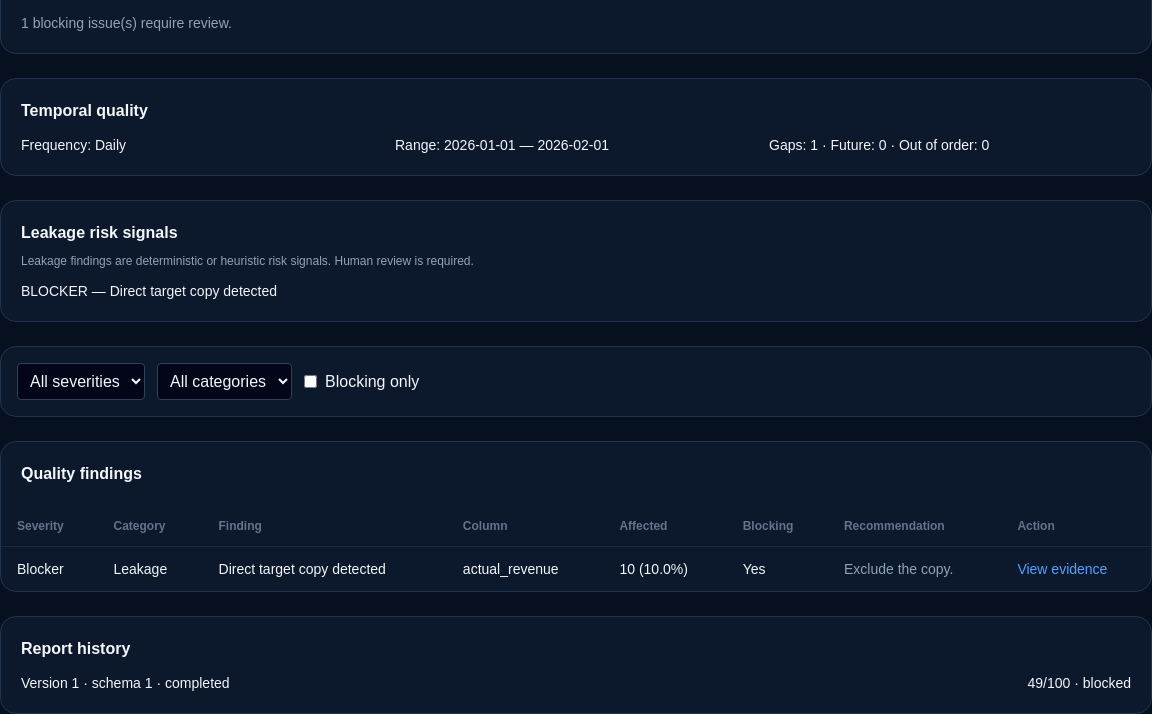
Test case: Data quality workspace › opens bounded evidence safely
(page scrolled)
Click the button "View evidence". click: (1062, 569)
box: [1017,559,1107,579]
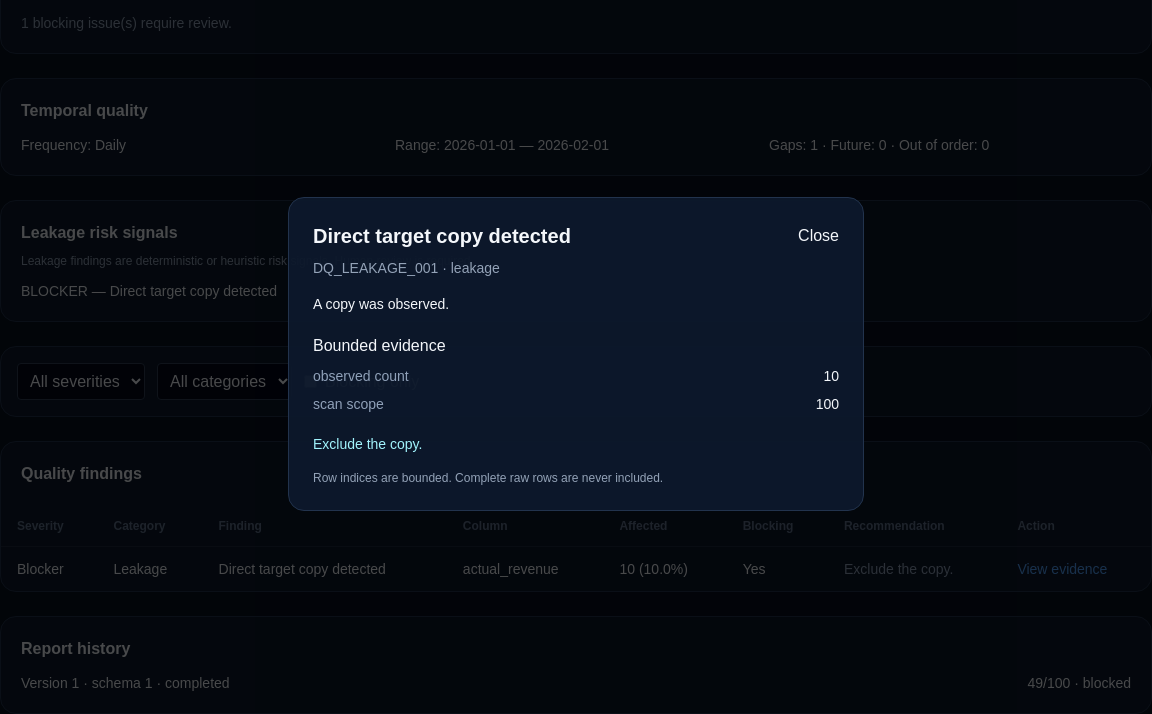
Check: the text "10" is shown, box [823,366,839,386]
Check: the text "Complete raw rows are never included" is shown, box [313,471,663,485]
